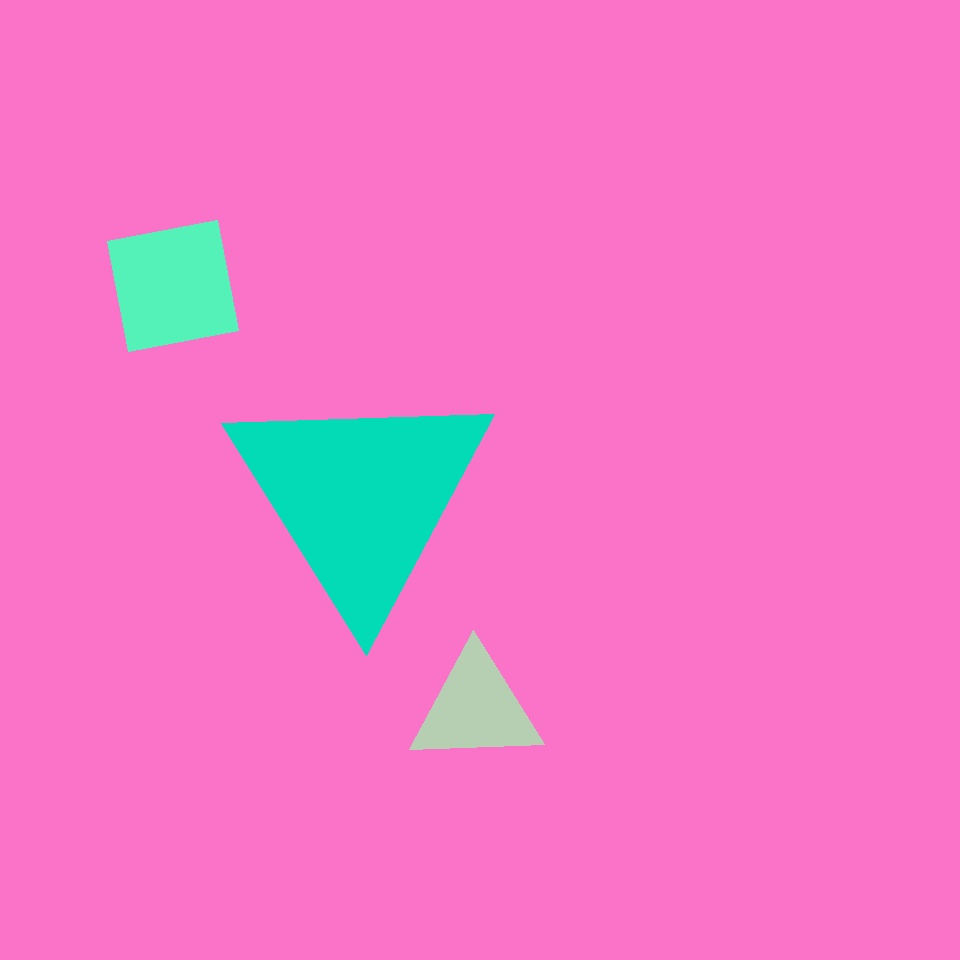circle: (224, 378, 497, 618), (469, 431, 694, 675), (373, 344, 510, 482), (408, 648, 544, 768), (252, 688, 374, 821)
square: (59, 260, 387, 588), (108, 220, 238, 352)
triangle: (279, 59, 554, 333), (521, 193, 669, 341)
